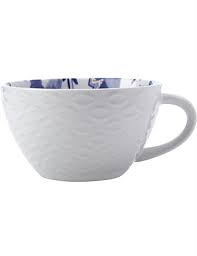cup: (2, 69, 197, 188)
